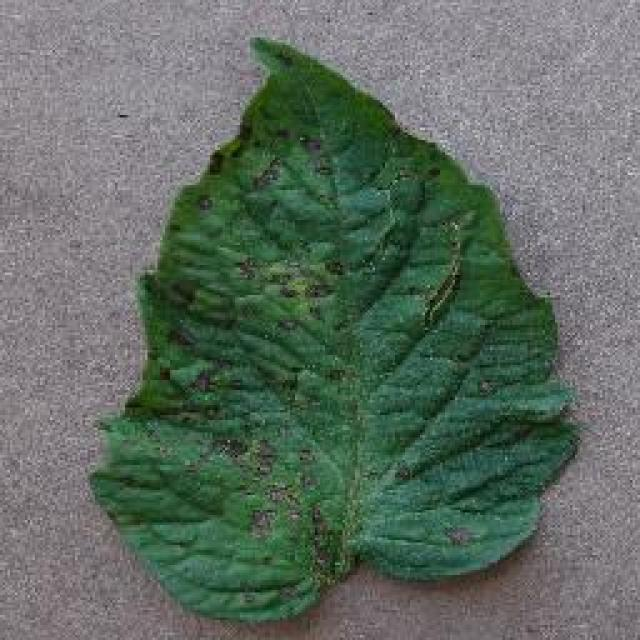Tomato___Early_blight: (70, 35, 585, 625)
